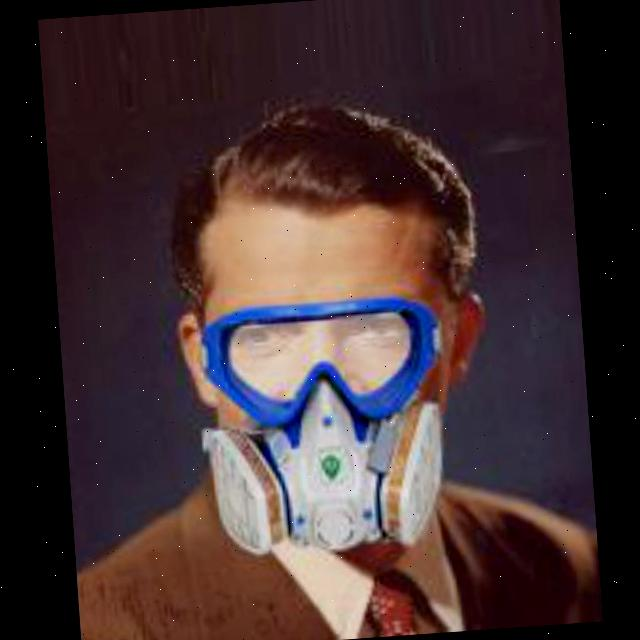suspicion: (126, 98, 527, 557)
